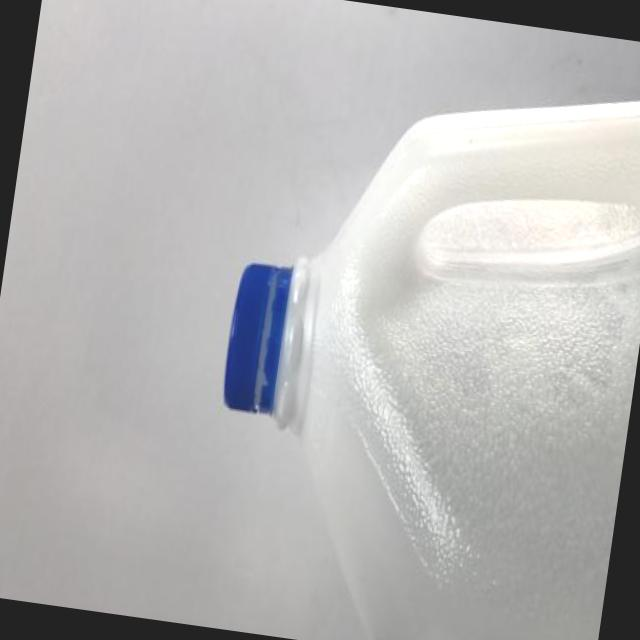Recycle: (187, 37, 640, 640)
